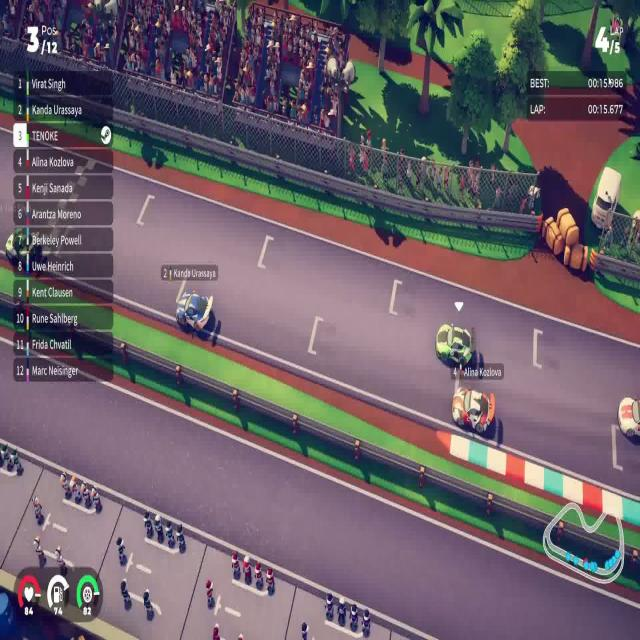car: (434, 322, 482, 374), (450, 385, 496, 436), (175, 289, 213, 334)
